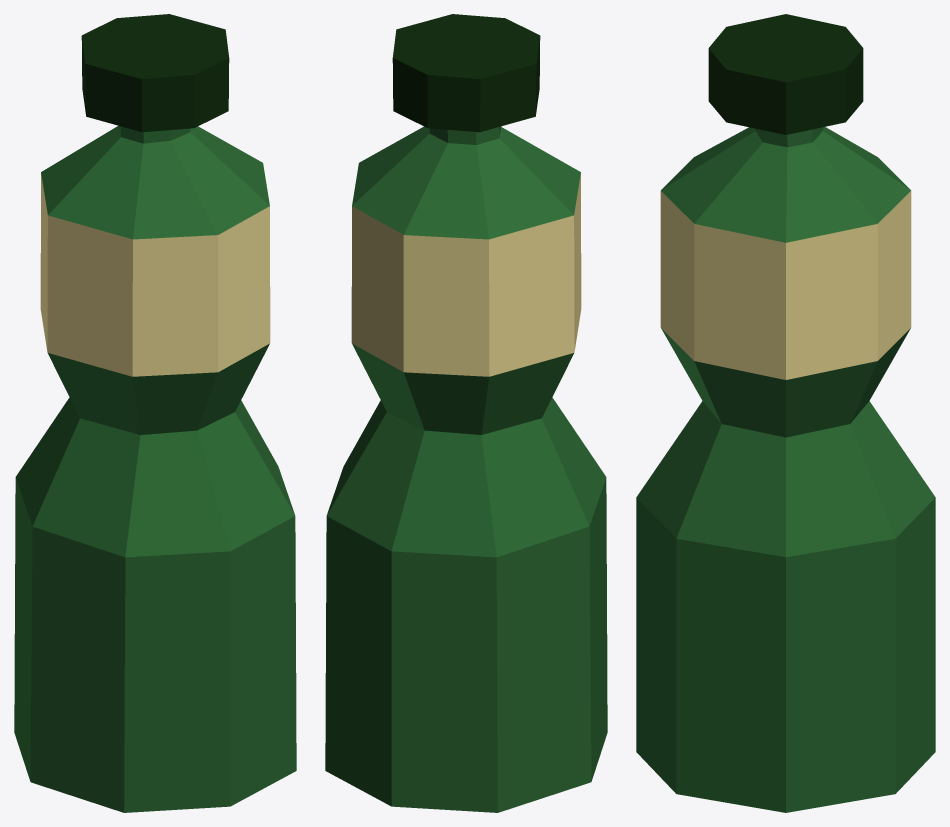
File: OilFRFR.fbx
3 renders of one model, left to right at view 1: azimuth 30°, elevation 25°; view 2: azimuth 150°, elevation 25°; view 3: azimuth 270°, elevation 25°, orthographic.
Parts seen in each view (by area): view 1: AceiteFR; view 2: AceiteFR; view 3: AceiteFR.
Part boxes in pixels (x1,y1,x2,y2): AceiteFR: (14,14,296,812); AceiteFR: (325,14,607,812); AceiteFR: (636,14,935,812).
Size of the model in its own units: 57.37 by 155 by 59.6.
